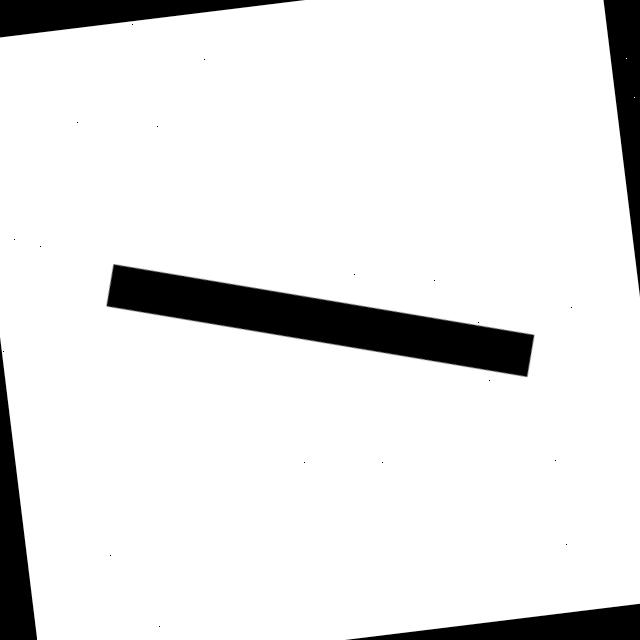line: (106, 264, 534, 376)
